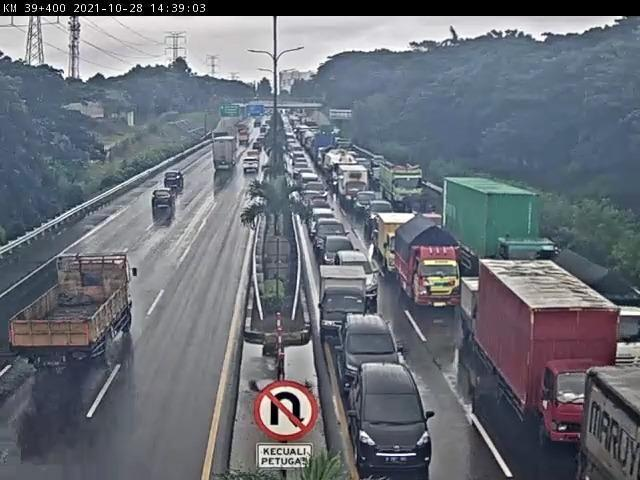car: (355, 366, 432, 469), (345, 317, 405, 378), (381, 214, 422, 276), (338, 253, 376, 294), (322, 234, 356, 265), (150, 189, 177, 211), (316, 220, 350, 235), (163, 172, 184, 194), (371, 201, 396, 219), (311, 209, 335, 226), (244, 157, 263, 175)
truck: (479, 262, 611, 433), (12, 251, 130, 371), (402, 212, 461, 307), (321, 267, 374, 340), (382, 162, 425, 204), (215, 138, 237, 168)
